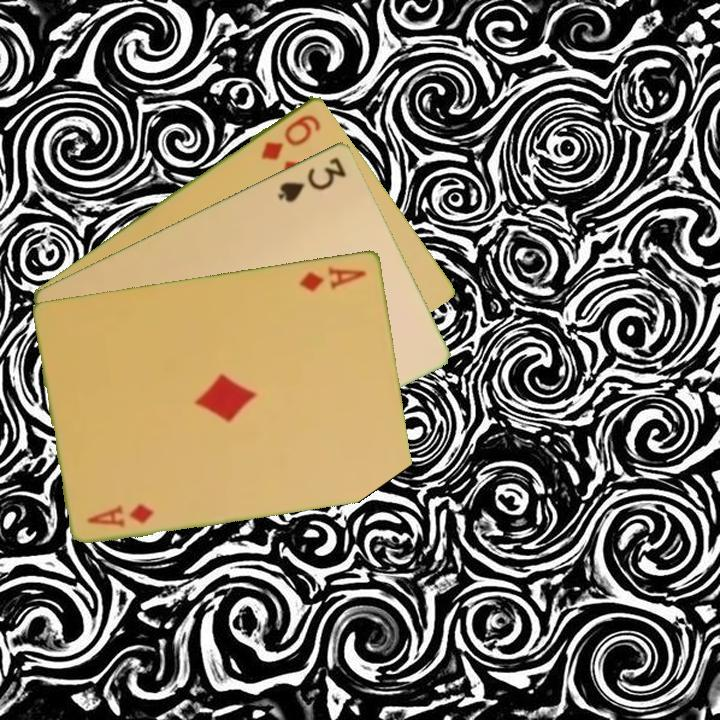3s: (274, 153, 350, 205)
6d: (257, 110, 324, 163)
Ad: (296, 262, 369, 294), (84, 500, 158, 530)
